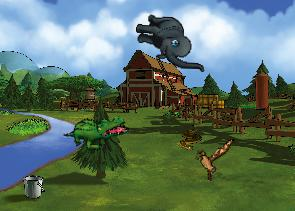crocodile: (62, 100, 131, 162)
eagle: (190, 131, 235, 184)
elephant: (134, 14, 205, 72)
